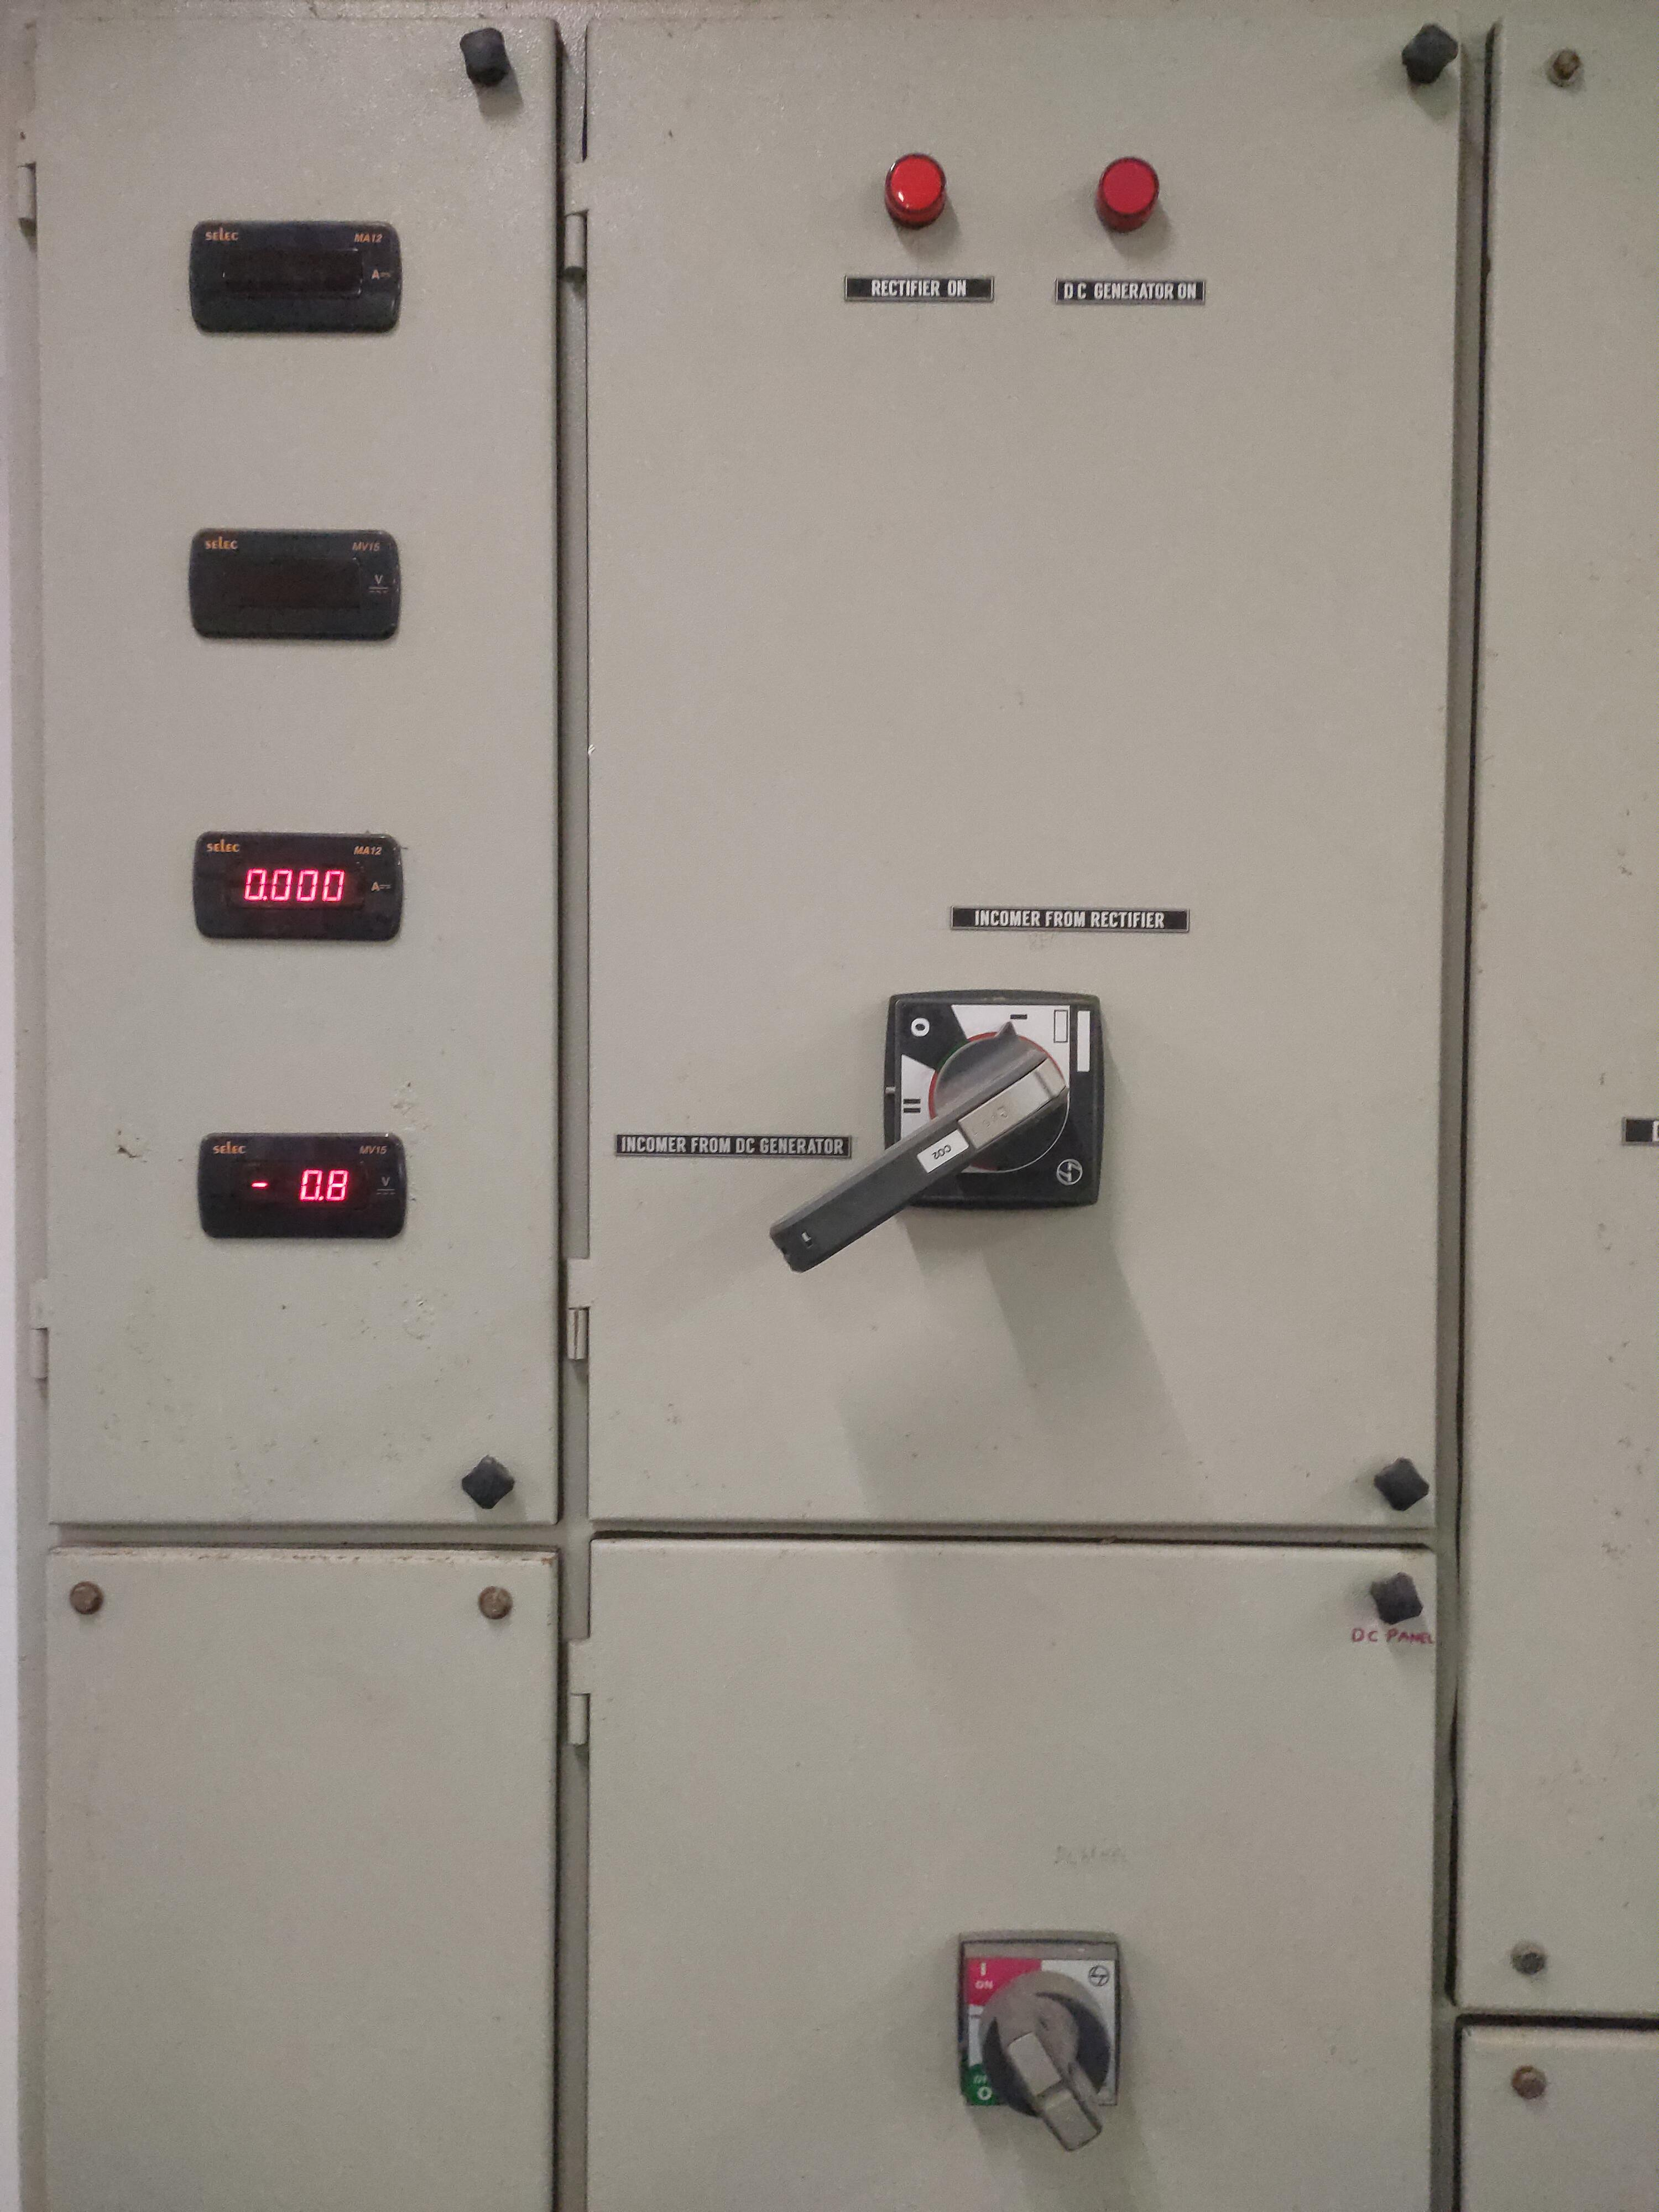Knob 1: (737, 951, 1164, 1299)
Knob 2: (939, 1890, 1161, 2155)
Light Indications: (816, 127, 1216, 357)
